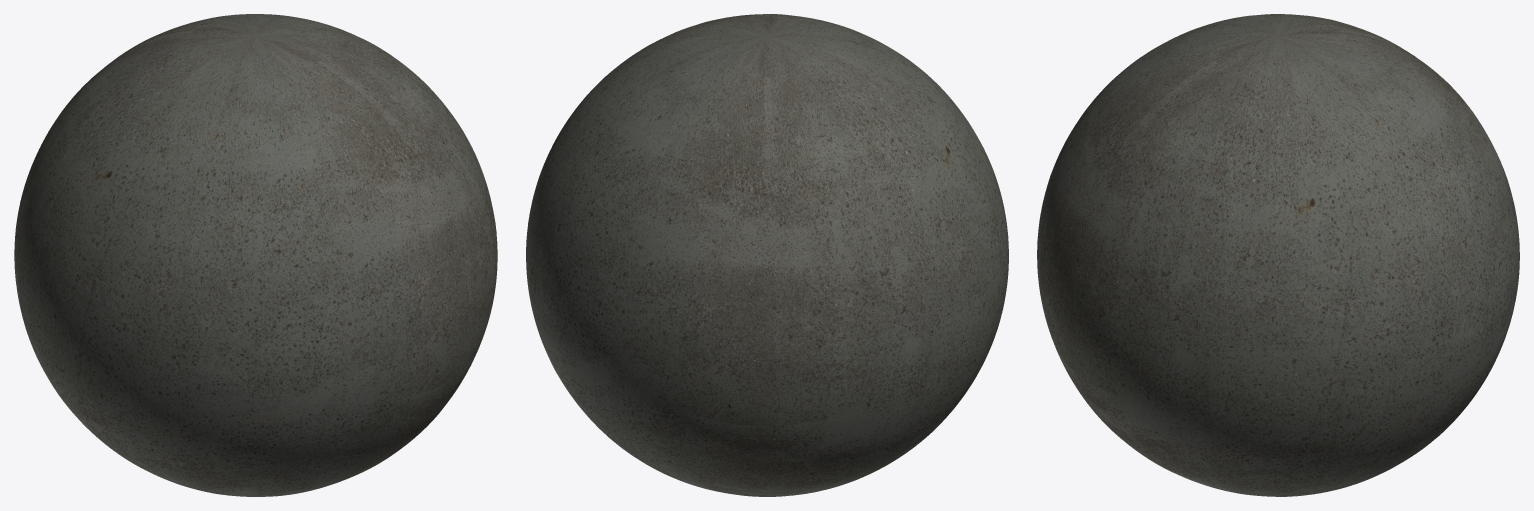
The model's file is gravel_concrete_03_2k.gltf.
3 views of the same model, side by side, from view 1: azimuth 30°, elevation 25°; view 2: azimuth 150°, elevation 25°; view 3: azimuth 270°, elevation 25° (orthographic).
Parts seen in each view (by area): view 1: sphere_gltf; view 2: sphere_gltf; view 3: sphere_gltf.
Boxes of the visible parts, bbox=[...] form: sphere_gltf: bbox=[14, 14, 497, 496]; sphere_gltf: bbox=[526, 14, 1008, 496]; sphere_gltf: bbox=[1037, 14, 1519, 496].
Bounding box in the file's own units: 2.1 × 2.1 × 2.1.
Materials: 1 (1 with a texture image).
